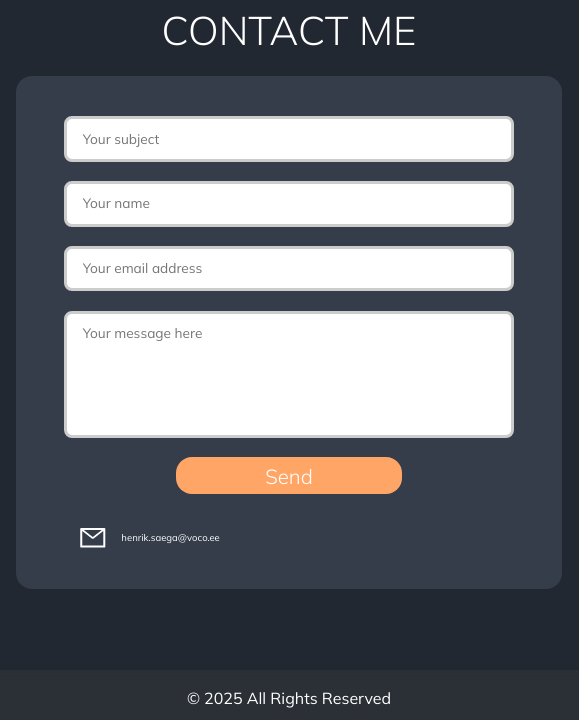
Scenario: Contact form submit › shows error message when sending fails
Type "Test Pealkiri" into the field with placeholder "Your subject" at (289, 139), box [64,116,514,162]
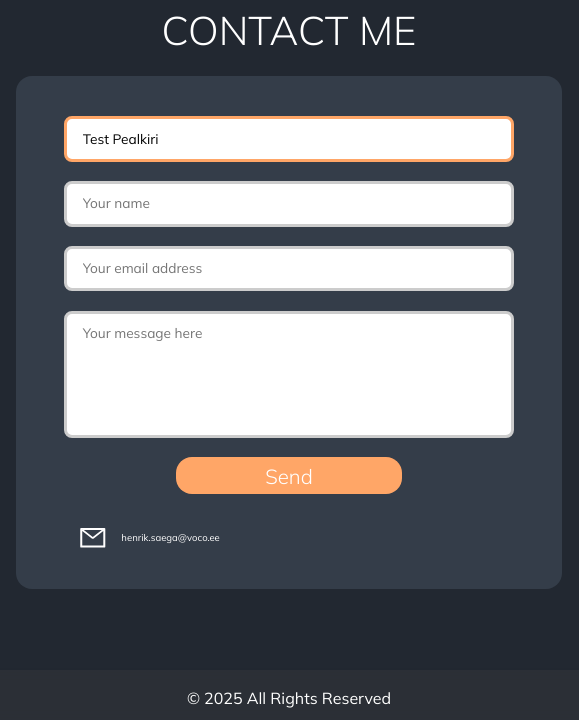
Type "Henrik Saega" into the field with placeholder "Your name" at (289, 204), box [64,181,514,227]
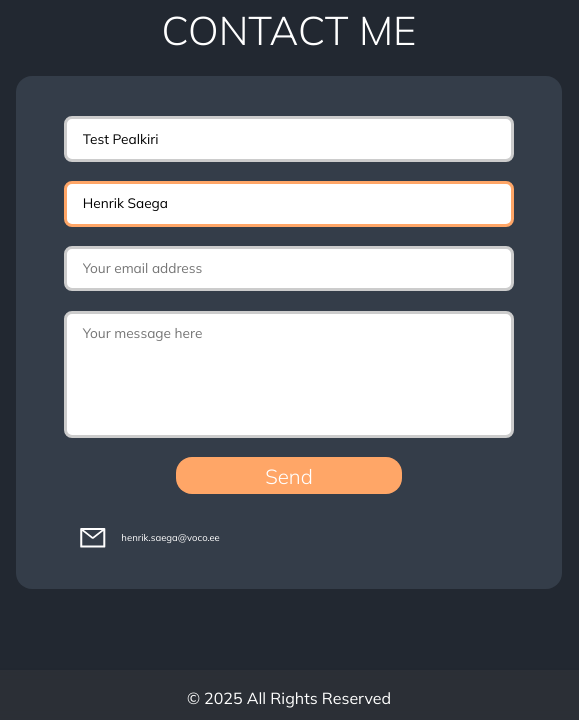
Type "Henrik.sageea@voco.ee" into the field with placeholder "Your email address" at (289, 269), box [64,246,514,291]
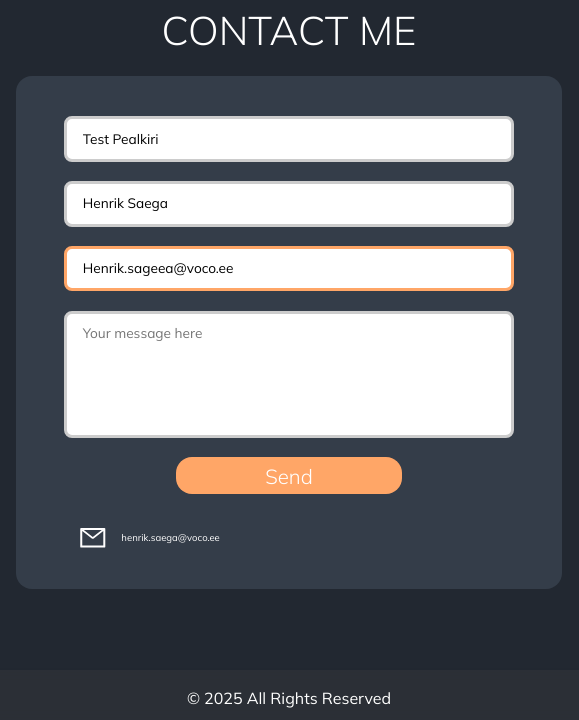
Type "Test sõnum" into the text box with placeholder "Your message here" at (289, 374), box [64,311,514,438]
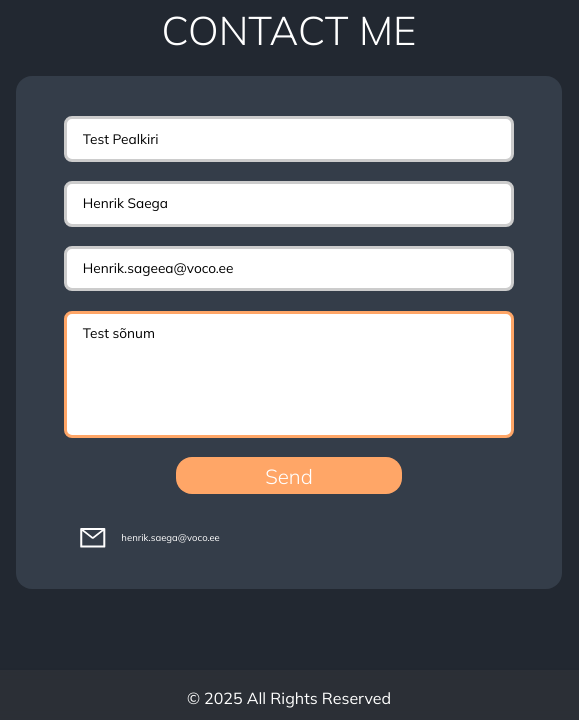
Click the button "Send" at (289, 476), box [176,457,402,494]
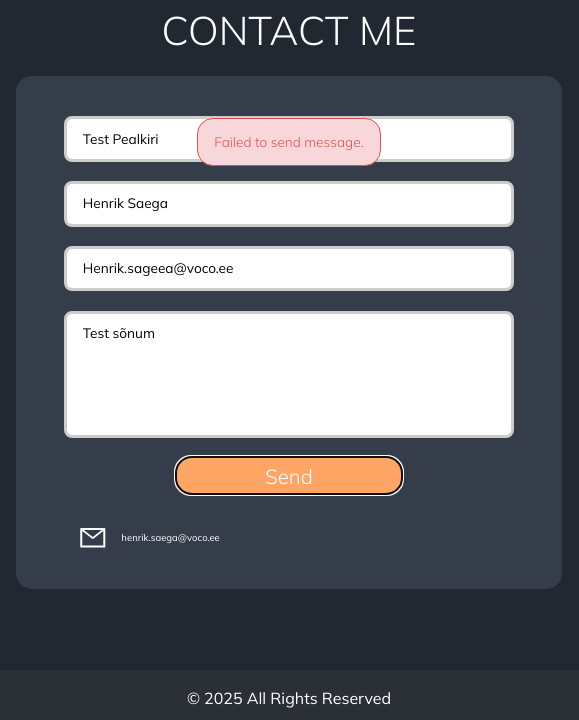
Check: the text "Failed to send message." is shown, box [197,118,381,166]
